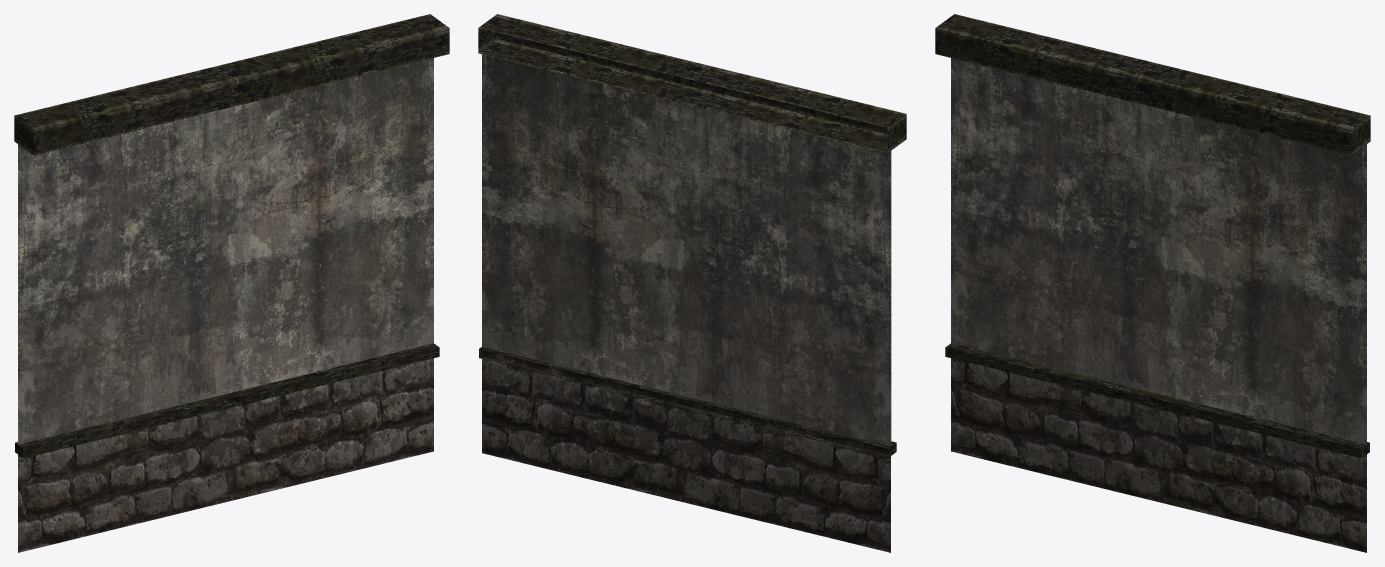
File: pubwallbare.DAE
3 views of the same model, side by side, from view 1: azimuth 30°, elevation 25°; view 2: azimuth 150°, elevation 25°; view 3: azimuth 330°, elevation 25° (orthographic).
Visible parts, largest first — view 1: Object046, Object048, Object047; view 2: Object046, Object048, Object047; view 3: Object046, Object048, Object047.
Part boxes in pixels (x1,y1,x2,y2): Object046: (18, 58, 433, 444); Object048: (18, 358, 433, 552); Object047: (14, 14, 449, 458); Object046: (482, 51, 891, 446); Object048: (482, 349, 890, 552); Object047: (478, 14, 906, 457); Object046: (951, 58, 1366, 444); Object048: (951, 358, 1366, 552); Object047: (935, 14, 1370, 458).
Size of the model in its own units: 4.01 by 4 by 0.3217.
